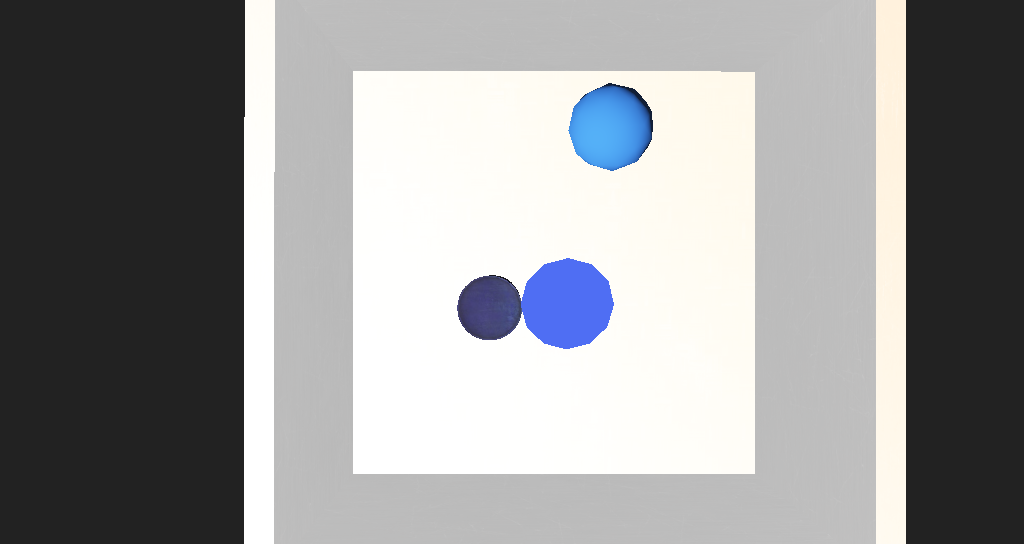cone: (435, 270, 482, 303)
cylinder: (482, 255, 542, 308)
sphere: (512, 174, 579, 217)
